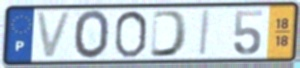5: (232, 8, 265, 57)
D: (148, 9, 190, 59)
I: (197, 8, 212, 58)
O: (72, 9, 111, 61), (112, 9, 150, 59)
V: (34, 9, 75, 61)
